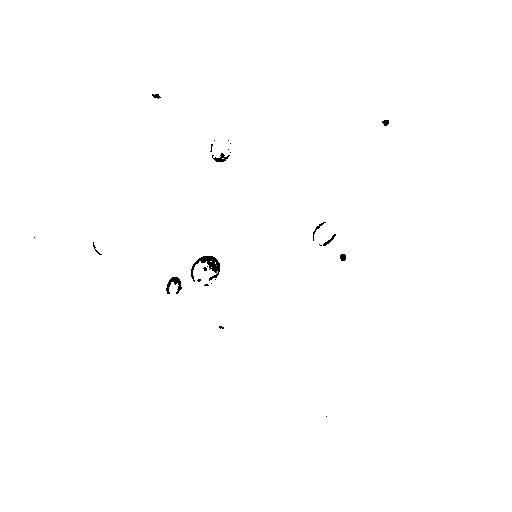micro-algae: (279, 165, 377, 257), (61, 0, 139, 58), (247, 243, 295, 294), (365, 106, 402, 138), (190, 255, 222, 287), (326, 238, 357, 271), (207, 132, 235, 165), (309, 218, 339, 247), (22, 225, 48, 256), (91, 226, 117, 257), (164, 275, 182, 297), (1, 0, 13, 23), (175, 96, 189, 113)
